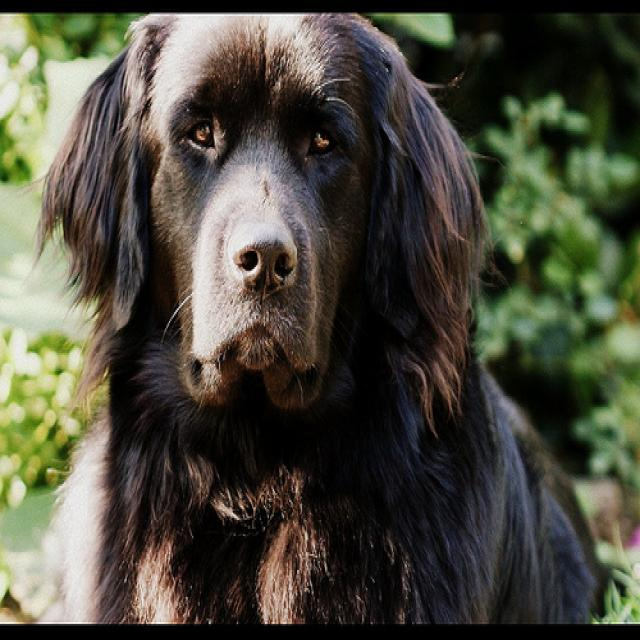dog: (60, 9, 476, 407)
